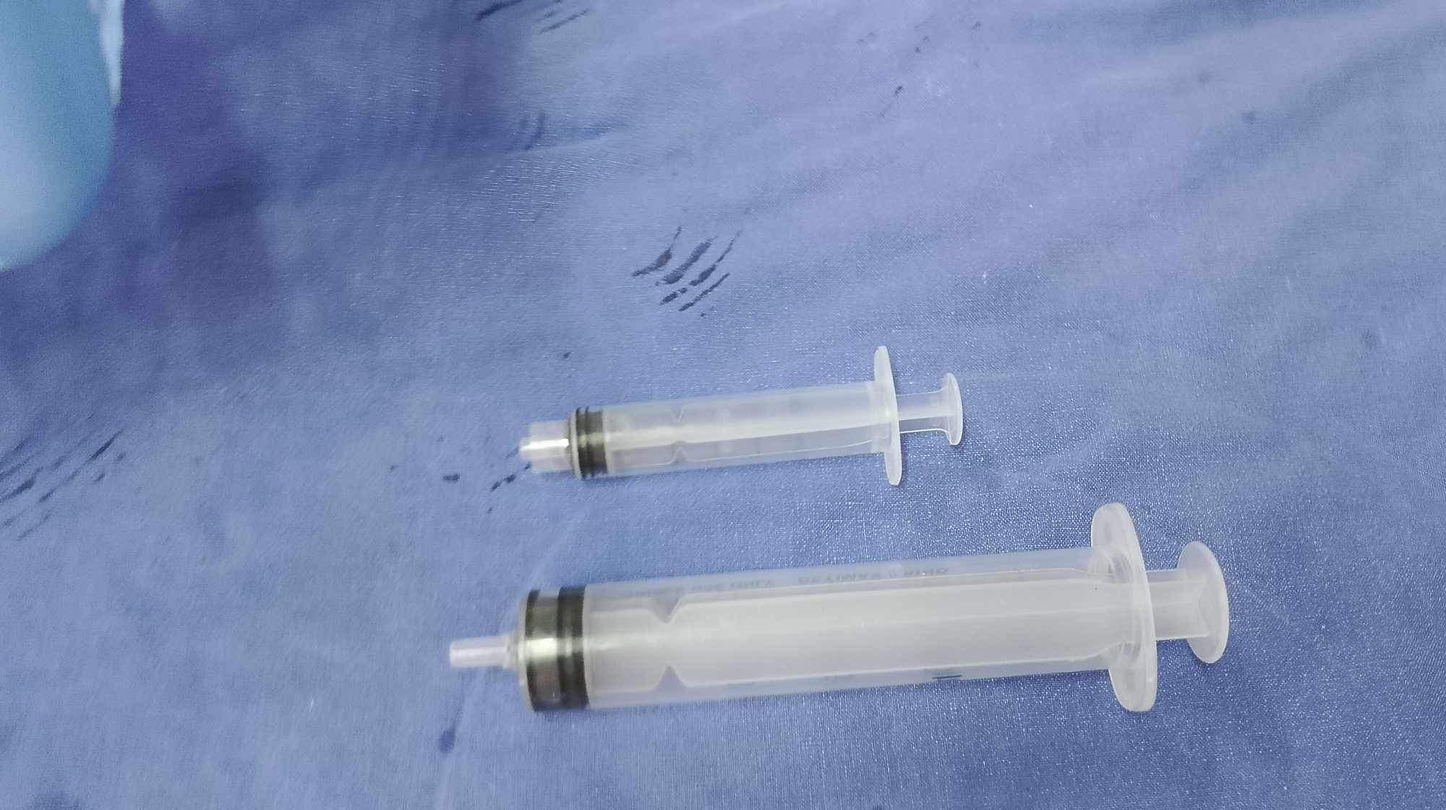Sharps: (447, 500, 1231, 716), (515, 344, 966, 487)
